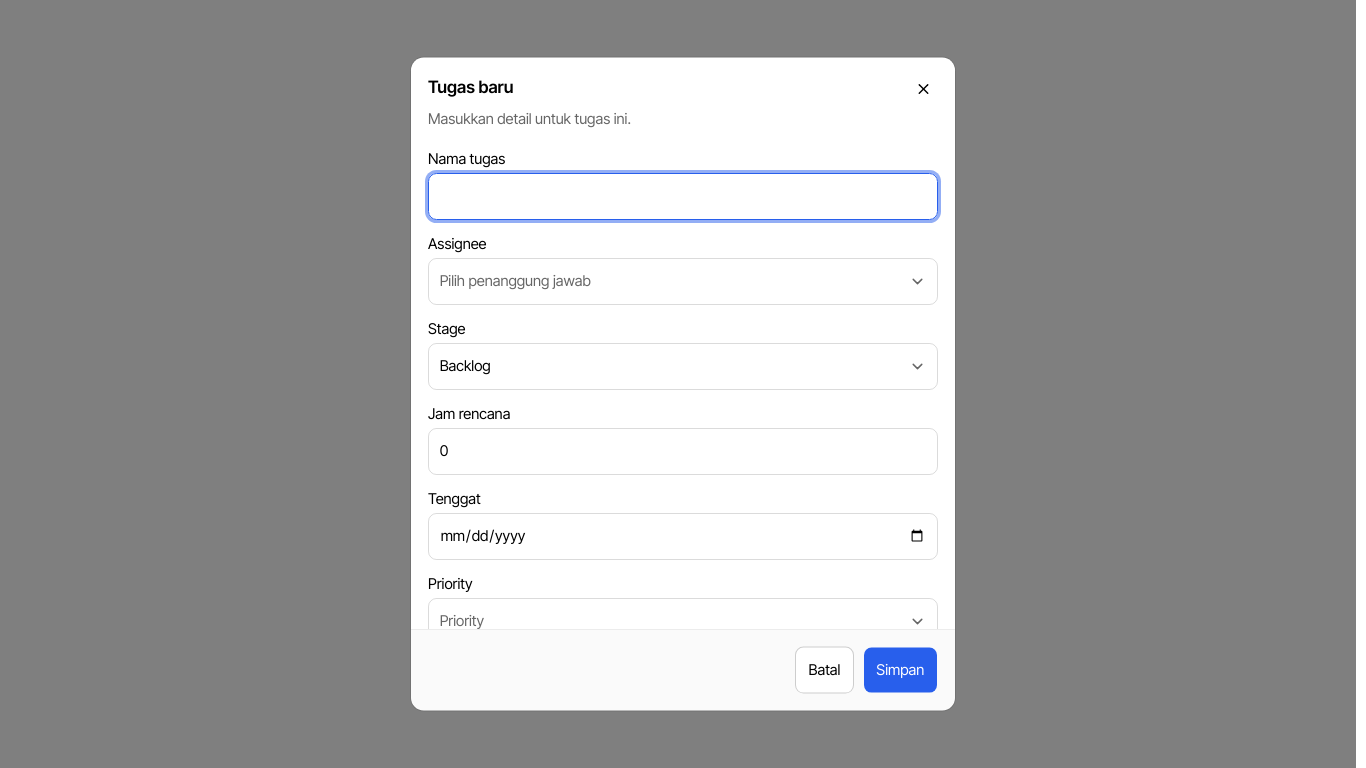
Test case: TaskFormDialog branches › shows validation for an empty name
Check: the heading "Tugas baru" is shown, box [428, 75, 513, 100]
Click the button "Simpan": (900, 670) [863, 647, 938, 693]
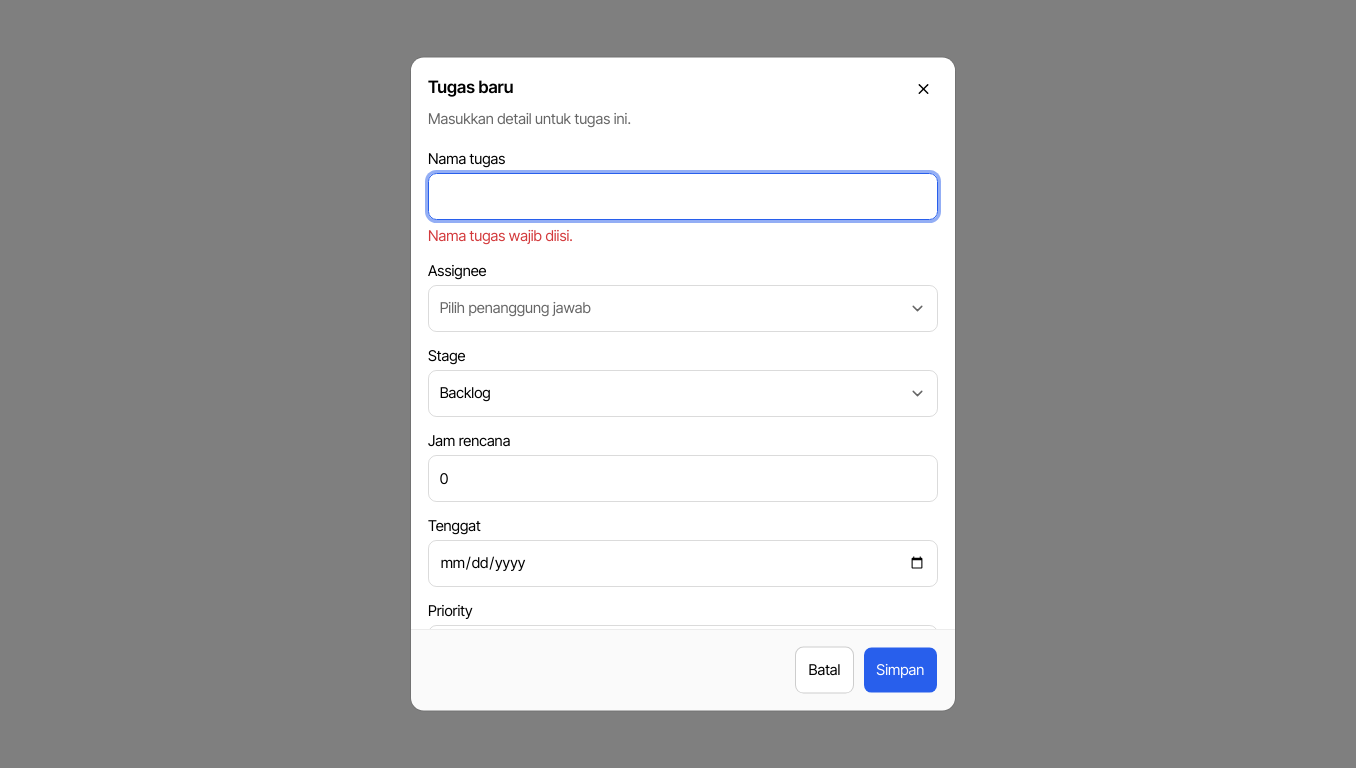
Check: the text "Nama tugas wajib diisi." is shown, box [428, 226, 573, 244]
